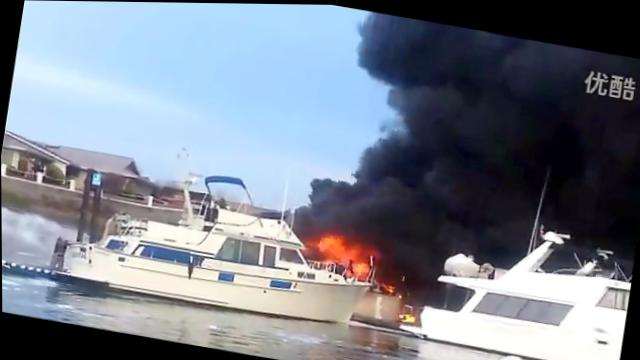fire: (315, 230, 346, 262), (348, 257, 370, 277), (342, 241, 363, 260), (398, 309, 417, 322)
